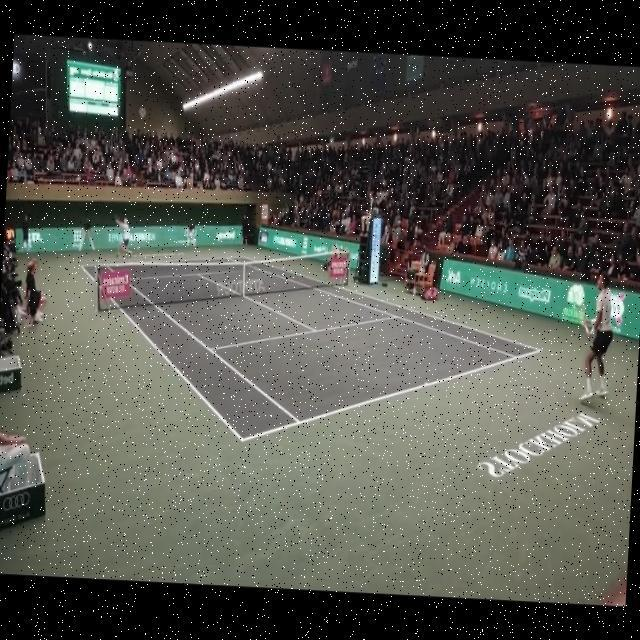court: (71, 247, 548, 459)
net: (94, 236, 352, 327)
player: (572, 269, 618, 404)
